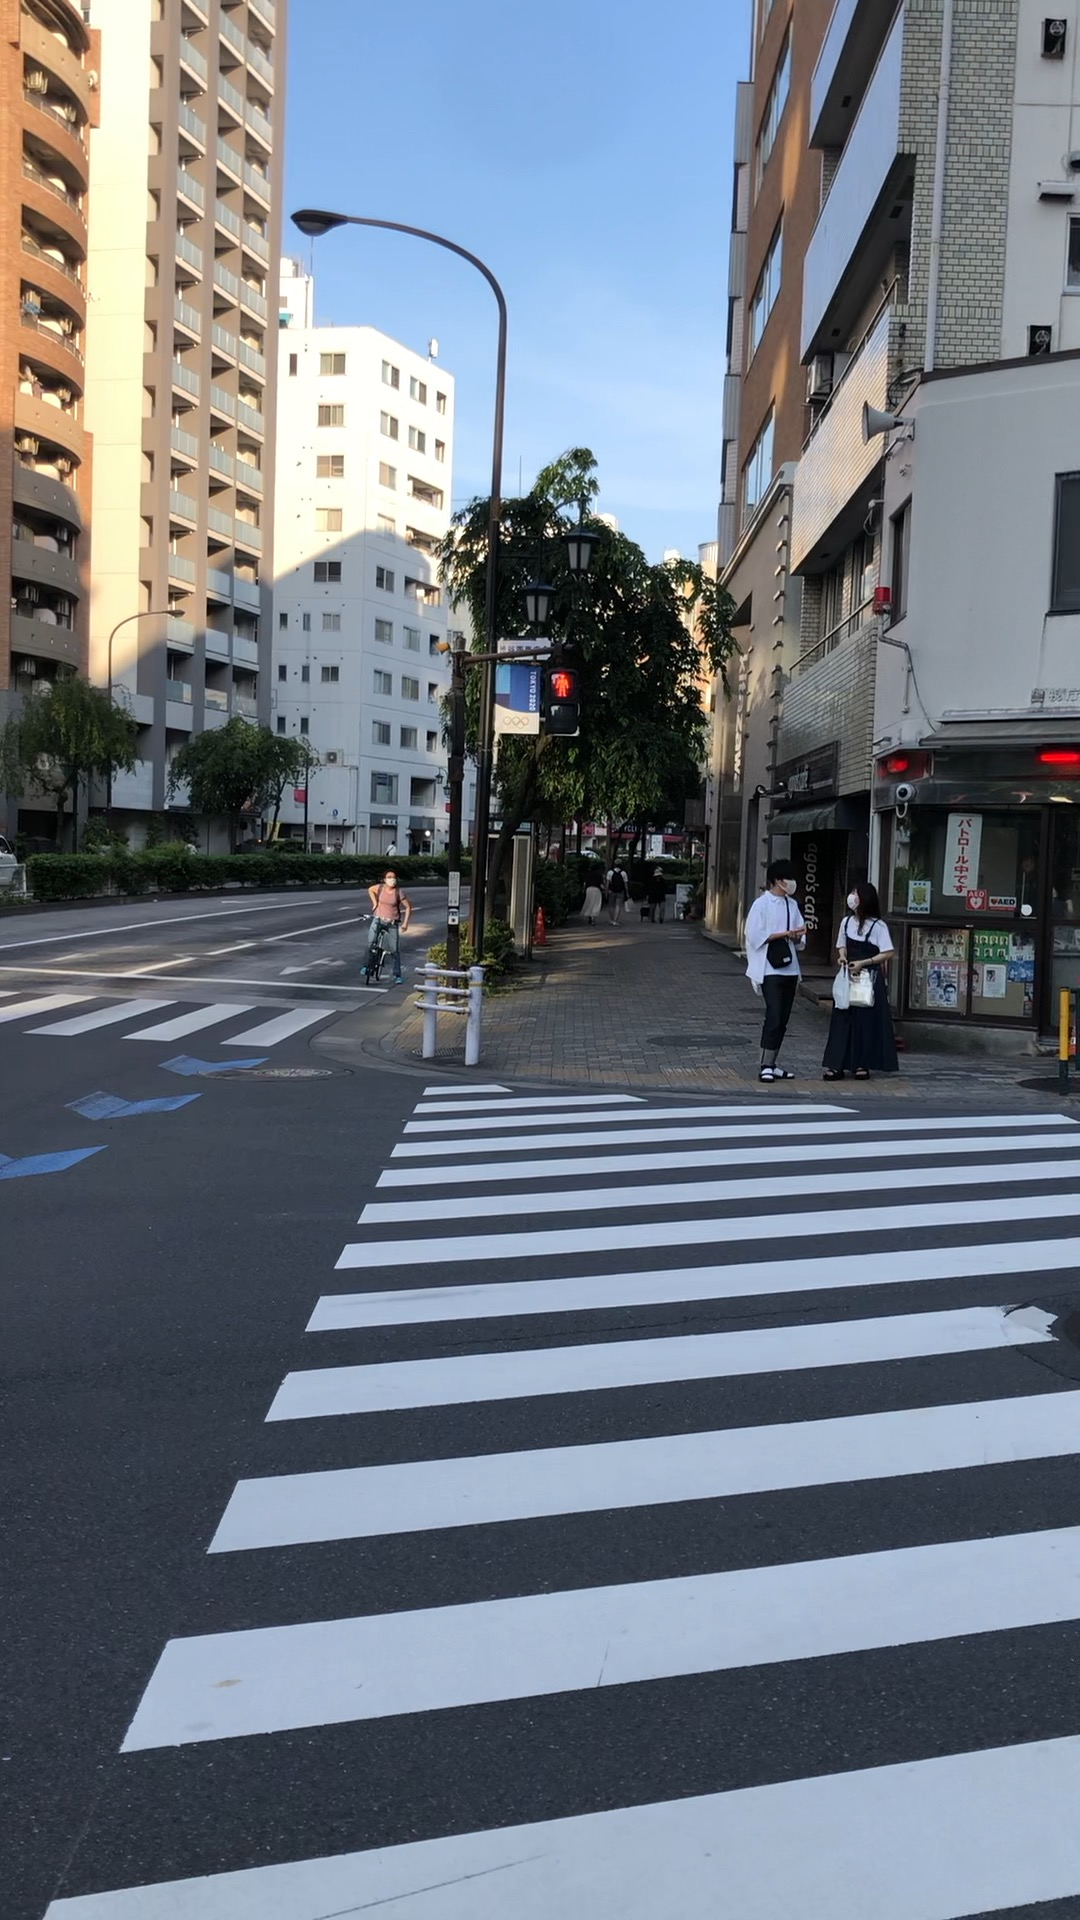red: (541, 667, 580, 733)
